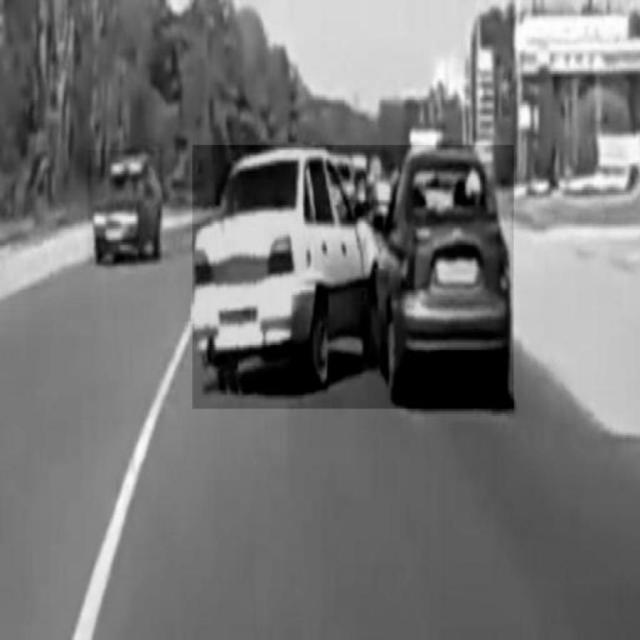accident: (193, 145, 513, 408)
vehicle: (89, 150, 163, 264)
